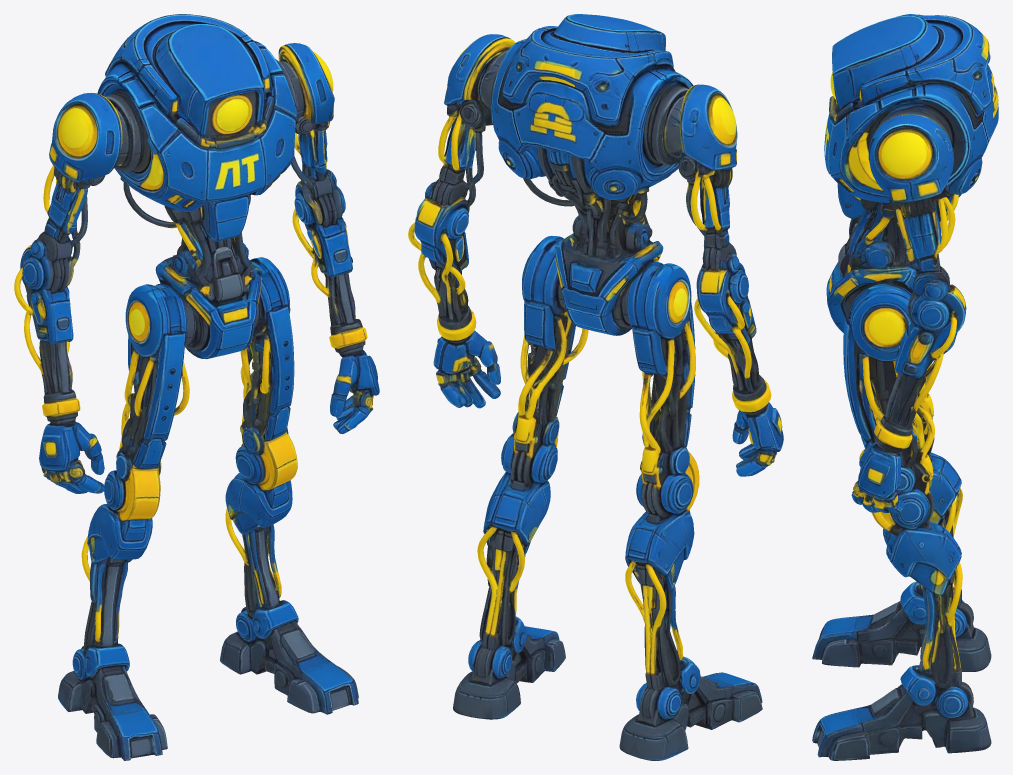
The model's file is lieutenant-companion-mech.glb.
3 renders of one model, left to right at view 1: azimuth 30°, elevation 25°; view 2: azimuth 150°, elevation 25°; view 3: azimuth 270°, elevation 25°, orthographic. The views are drawn at different scales.
Bounding box in the file's own units: 0.993 × 1.9 × 0.4754.
1 material, 1 textured.
